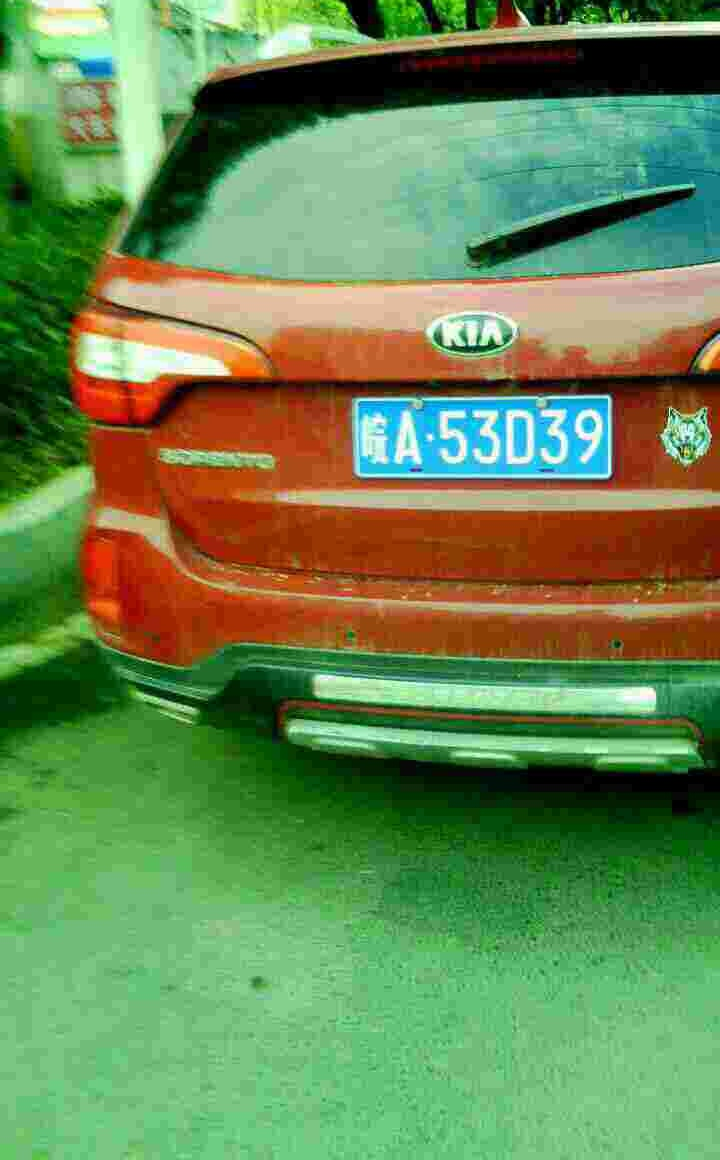license_plate: (350, 398, 623, 469)
